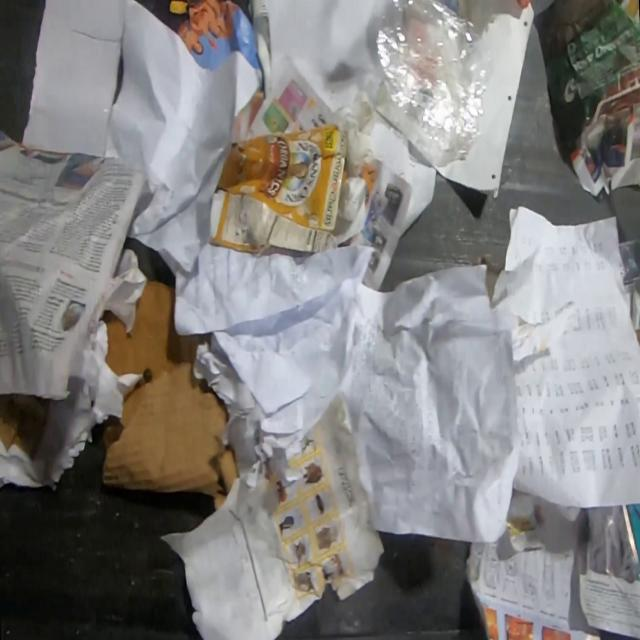cardboard: (97, 280, 242, 510), (208, 124, 349, 254)
soft_plastic: (370, 0, 494, 167)
